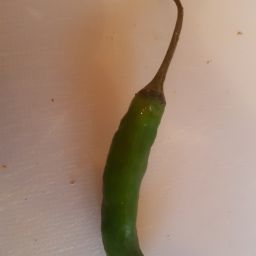Green chilli: (98, 69, 182, 256), (111, 82, 164, 253), (93, 129, 155, 256), (146, 3, 187, 104)
